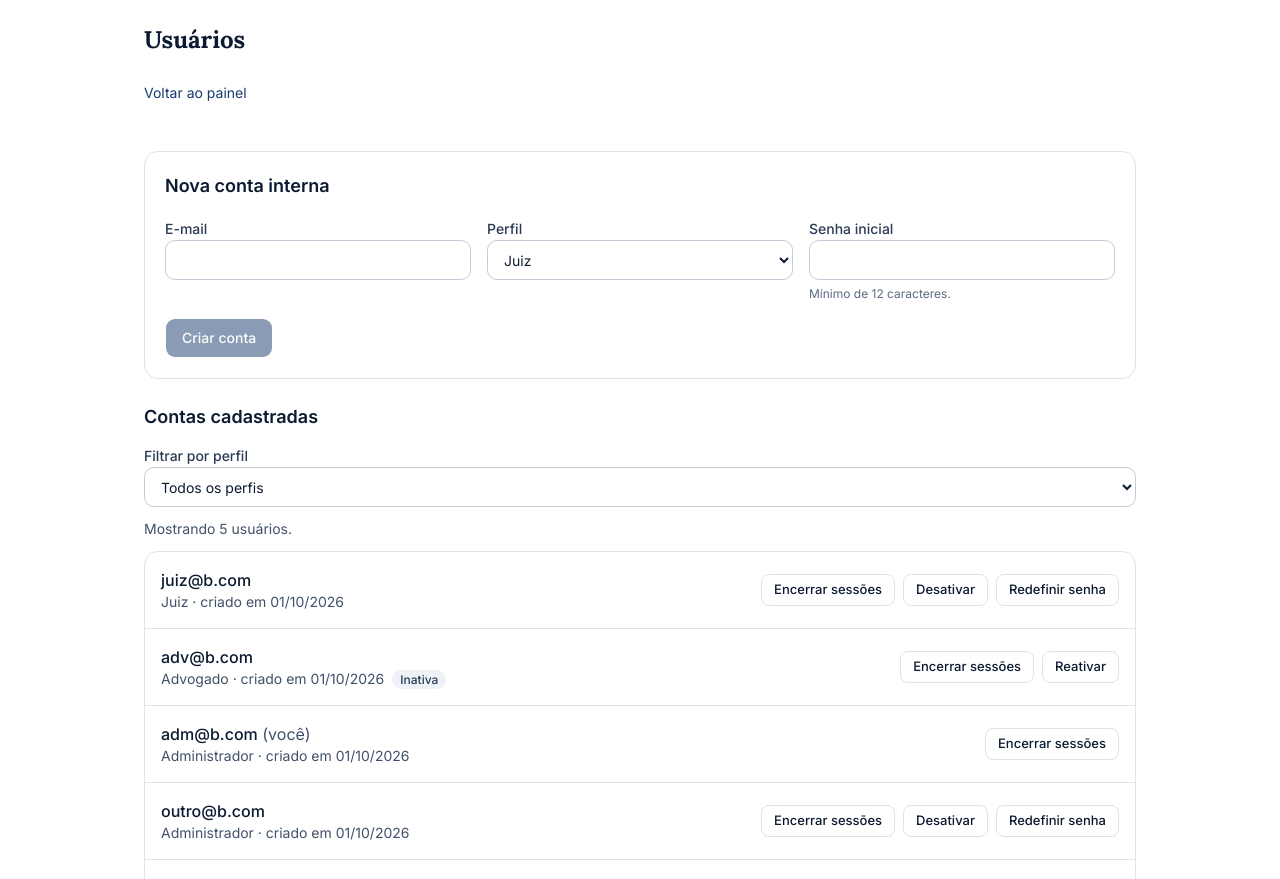
Test: UsersAdmin account status › reactivates, announces and refetches
The image size is (1280, 879).
Expected: the text "juiz@b.com" is shown, [161,570,251,590]
Click the button "Reativar" in the row of "adv@b.com": x=1081, y=667 [1042,651,1119,683]
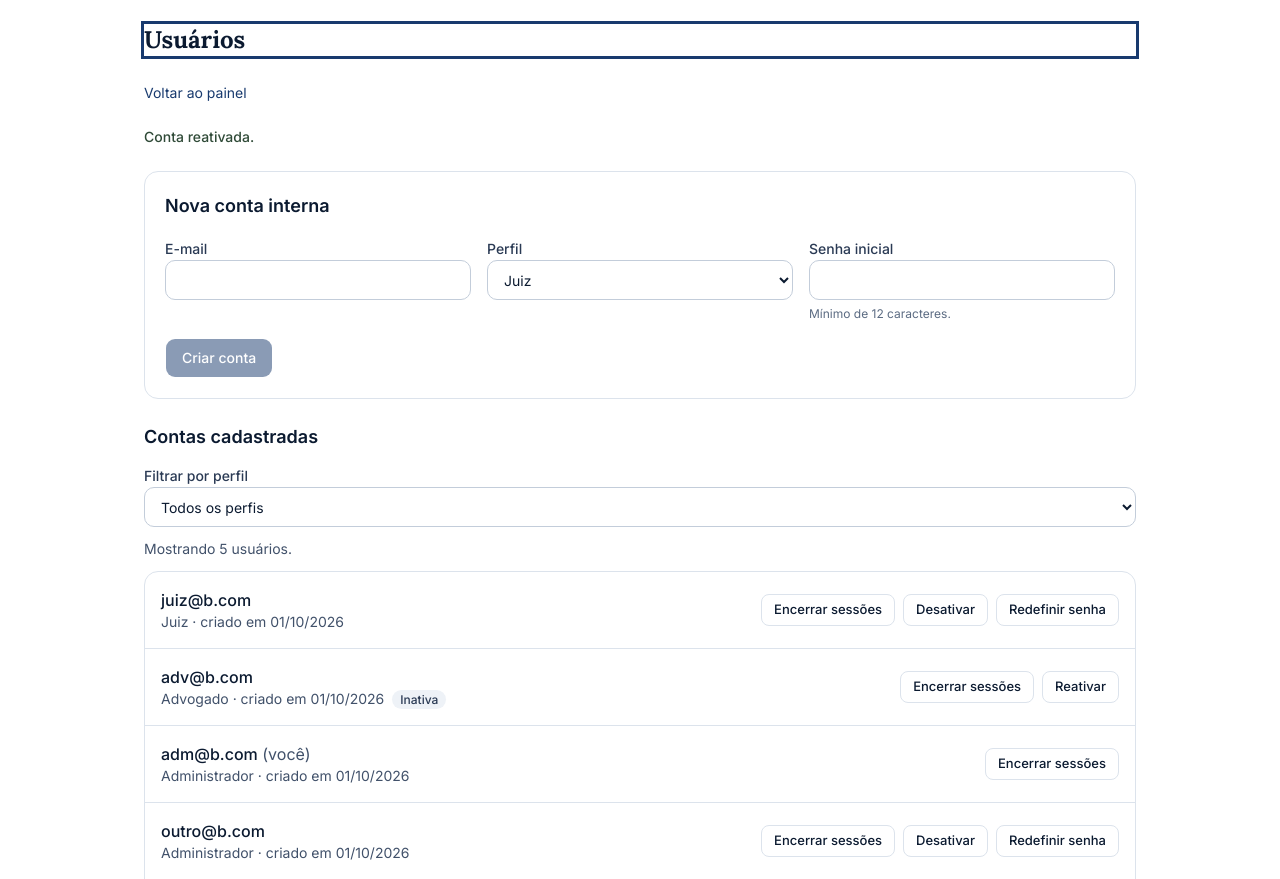
Now the text "Conta reativada." is shown, box [144,128,254,145]
